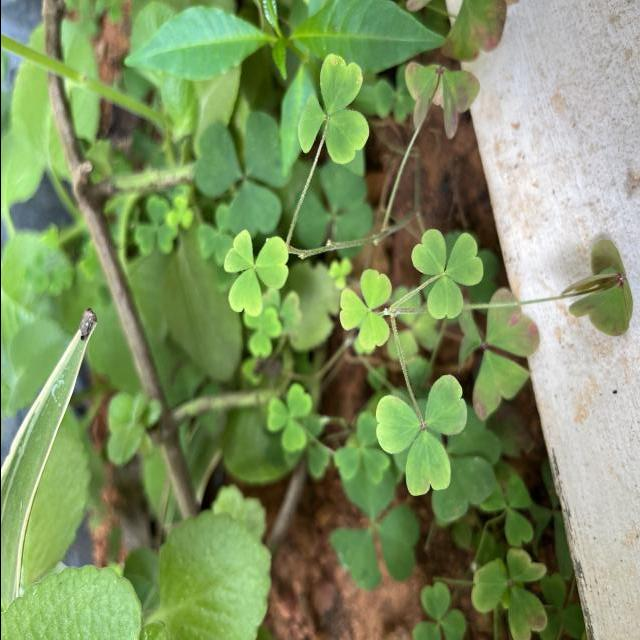Oxalis corniculata: (374, 374, 466, 496), (294, 52, 369, 168), (410, 228, 482, 320), (222, 228, 290, 318), (337, 268, 391, 351), (265, 382, 313, 452)
